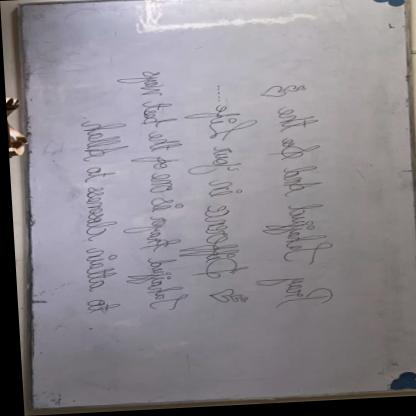Handwritten text: (255, 103, 343, 312), (120, 66, 191, 319), (181, 103, 265, 282), (61, 118, 132, 324)
Whiteboard: (16, 0, 416, 415)
